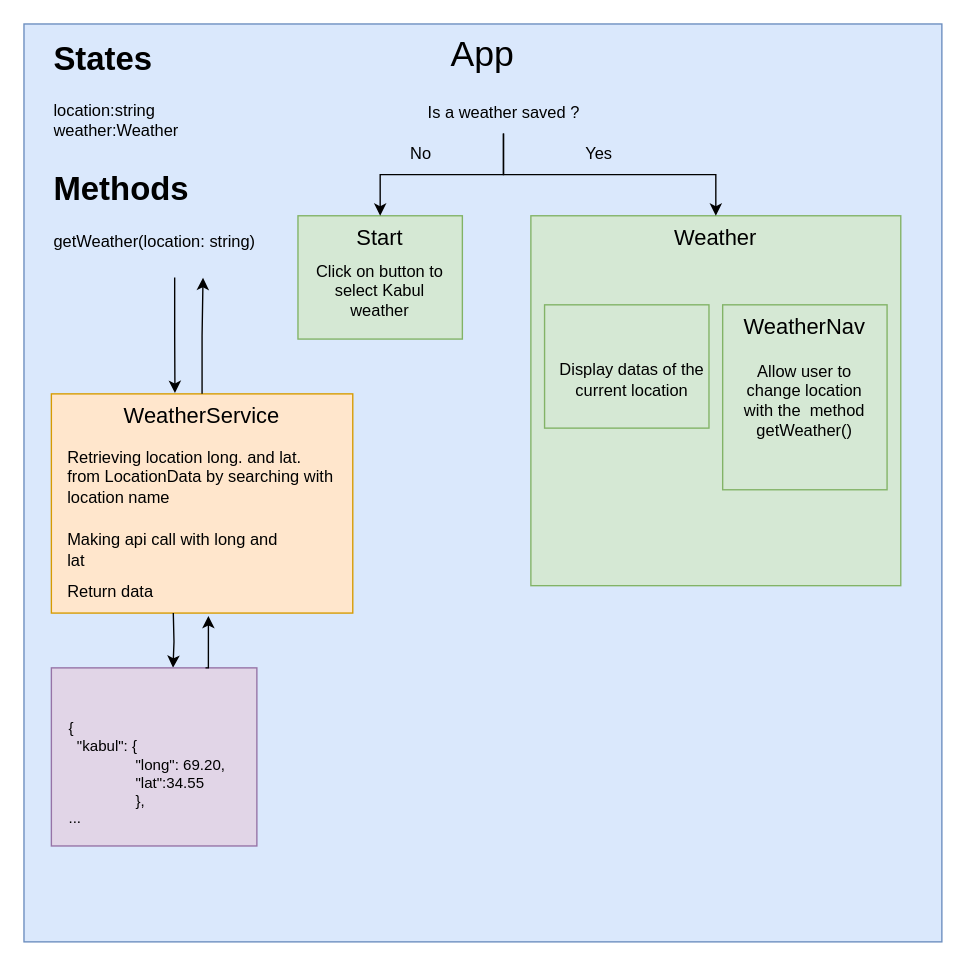
This 966x966 diagram has some shape labels left out. The shapes that lost their labels are listed below. From the top down, each one's box as (x1, y1, x2, y2) in pixels, then its label:
(543, 303, 709, 428): WeatherCard
(50, 667, 257, 846): LocationData
